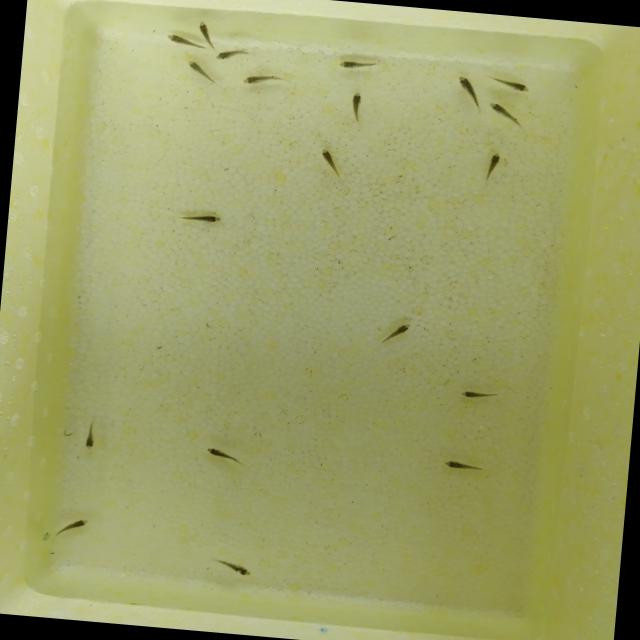fingerling: (49, 512, 92, 543), (211, 558, 260, 581), (488, 98, 523, 128), (180, 59, 218, 85), (178, 210, 225, 231), (238, 71, 284, 91), (199, 445, 243, 465), (319, 143, 342, 180), (452, 75, 482, 103), (452, 384, 494, 404), (342, 92, 367, 125), (441, 456, 486, 474), (382, 319, 413, 345), (334, 56, 378, 74), (491, 75, 532, 93), (478, 151, 505, 177), (162, 32, 200, 49), (82, 422, 100, 452), (196, 20, 212, 46), (211, 49, 244, 60)
